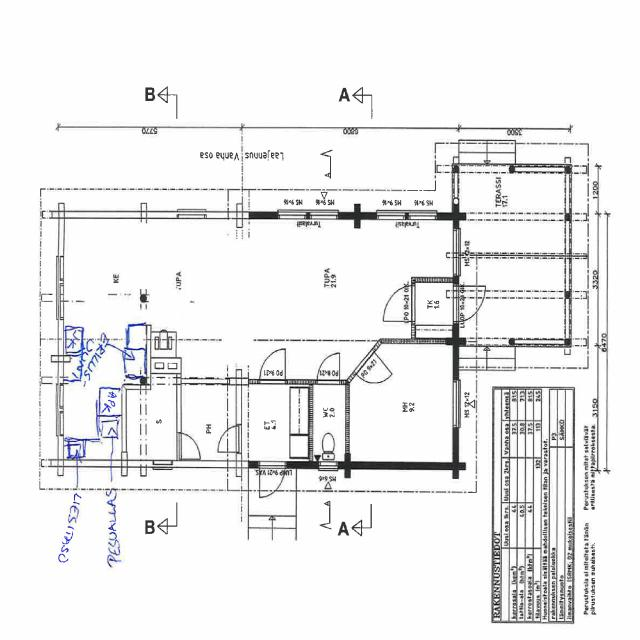door: (353, 348, 392, 396), (452, 286, 486, 321), (382, 286, 415, 321), (259, 461, 285, 501), (260, 347, 285, 384), (317, 351, 340, 384), (214, 426, 242, 452), (177, 433, 202, 459)
